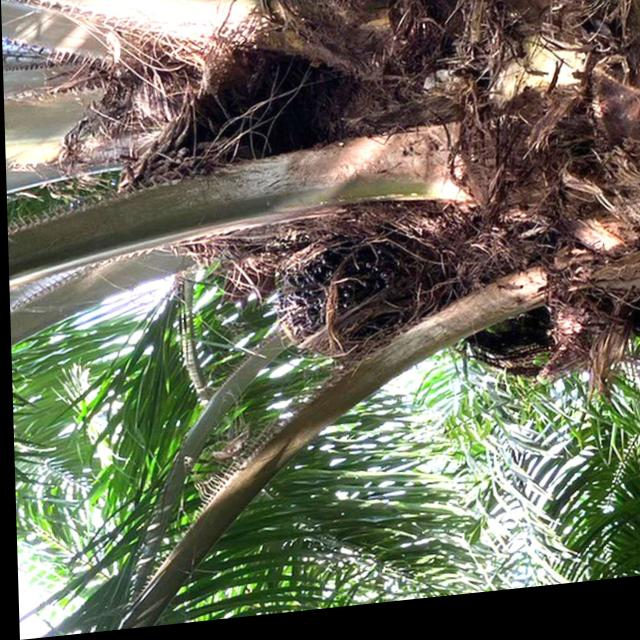unripe: (265, 226, 430, 385)
